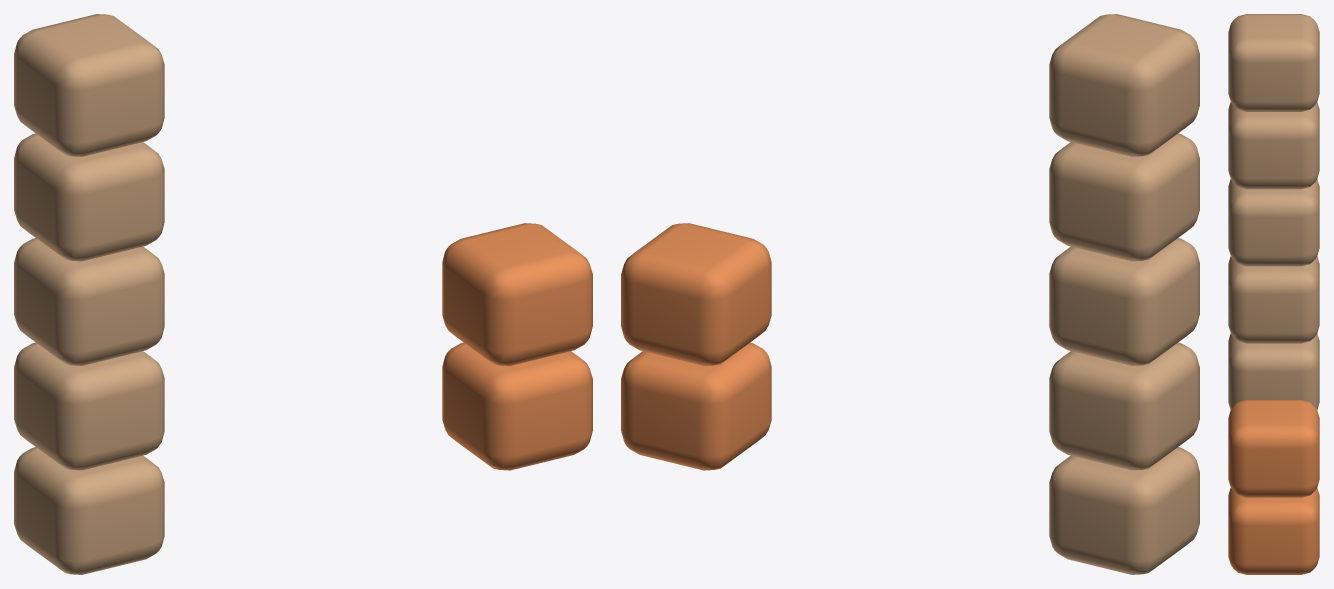
File: ava-opposite-short.glb
3 views of the same model, side by side, from view 1: azimuth 30°, elevation 25°; view 2: azimuth 150°, elevation 25°; view 3: azimuth 270°, elevation 25° (orthographic). The views are drawn at different scales.
Parts seen in each view (by area): view 1: tower block.004, tower block.006, tower block.005, tower block, tower block.001, tower block.002, tower block.003; view 2: tower block.004, tower block.006, tower block.005, tower block, tower block.001, tower block.002, tower block.003; view 3: tower block.006, tower block.004, tower block.005, tower block.001, tower block.003, tower block.002, tower block.
Part boxes in pixels (<box>): tower block.004: <box>14,14,164,156</box>; tower block.006: <box>442,223,592,365</box>; tower block.005: <box>442,342,592,470</box>; tower block: <box>14,447,164,574</box>; tower block.001: <box>14,342,164,470</box>; tower block.002: <box>14,238,164,365</box>; tower block.003: <box>14,133,164,261</box>; tower block.004: <box>1049,14,1199,156</box>; tower block.006: <box>621,223,771,365</box>; tower block.005: <box>621,342,771,470</box>; tower block: <box>1049,447,1199,574</box>; tower block.001: <box>1049,342,1199,470</box>; tower block.002: <box>1049,238,1199,365</box>; tower block.003: <box>1049,133,1199,261</box>; tower block.006: <box>1228,399,1319,497</box>; tower block.004: <box>1228,14,1319,111</box>; tower block.005: <box>1228,488,1319,574</box>; tower block.001: <box>1228,256,1319,343</box>; tower block.003: <box>1228,102,1319,189</box>; tower block.002: <box>1228,179,1319,266</box>; tower block: <box>1228,333,1319,409</box>.
Size of the model in its own units: 1.5 by 1.38 by 0.3.
